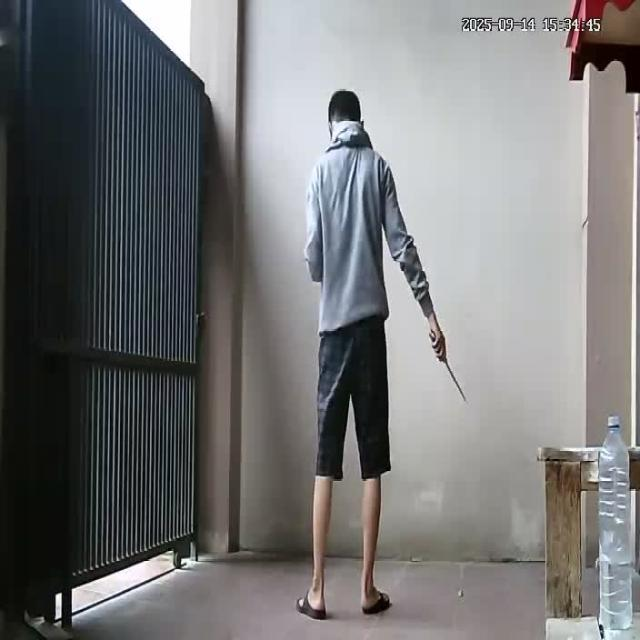senjata_tajam: (440, 357, 470, 406)
